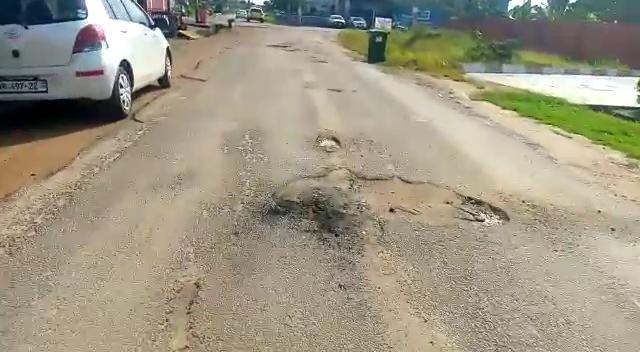pothole: (270, 167, 517, 235), (315, 136, 345, 153)
